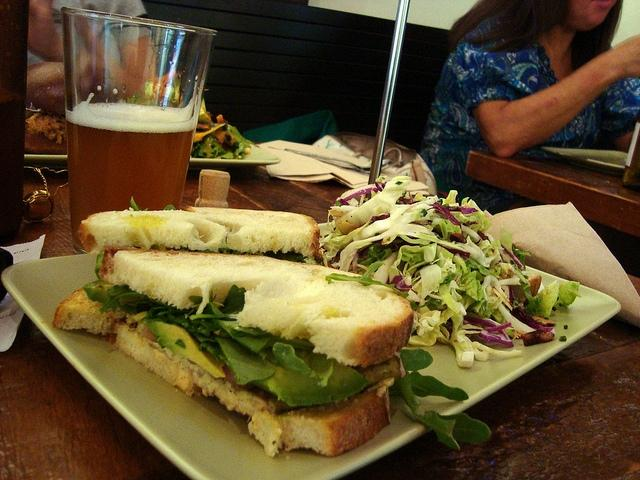avocado: (249, 342, 371, 407), (146, 320, 226, 379), (82, 280, 141, 306)
